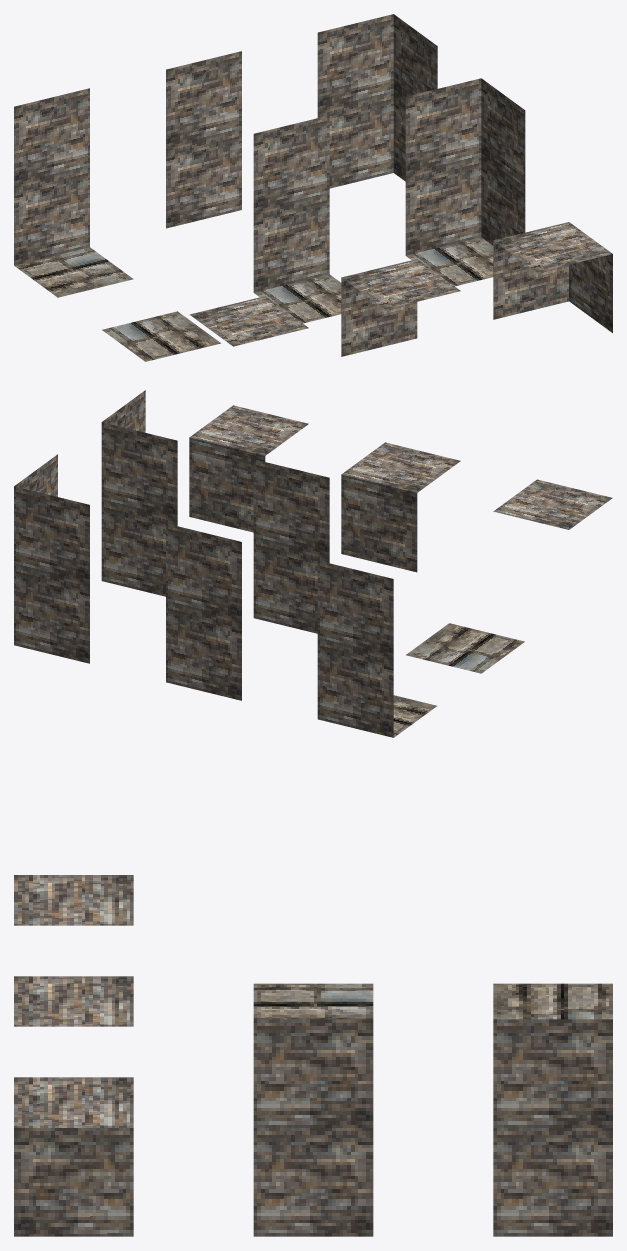
The model's file is dungeon_tiles.glb.
The picture shows the model from 3 angles, top to bottom: view 1: azimuth 30°, elevation 25°; view 2: azimuth 150°, elevation 25°; view 3: azimuth 270°, elevation 25°; orthographic projection. The views are drawn at different scales.
Parts seen in each view (by area): view 1: wall-floor-corner-col, wall-floor-inverted-col, wall-corner-col, wall-floor-col, wall-col, wall-roof-corner-col, wall-roof-col, roof-col, floor-col; view 2: wall-floor-inverted-col, wall-corner-col, wall-floor-corner-col, wall-col, wall-floor-col, wall-roof-col, wall-roof-corner-col, roof-col, floor-col; view 3: wall-floor-corner-col, wall-corner-col, wall-roof-corner-col, wall-roof-col, roof-col, floor-col, wall-floor-inverted-col.
Part boxes in pixels (x1=…): wall-floor-corner-col: x1=405, y1=78, x2=525, y2=286; wall-floor-inverted-col: x1=14, y1=88, x2=133, y2=297; wall-corner-col: x1=317, y1=14, x2=437, y2=188; wall-floor-col: x1=253, y1=115, x2=341, y2=323; wall-col: x1=166, y1=51, x2=241, y2=228; wall-roof-corner-col: x1=493, y1=222, x2=612, y2=332; wall-roof-col: x1=341, y1=259, x2=460, y2=356; roof-col: x1=189, y1=296, x2=308, y2=346; floor-col: x1=102, y1=311, x2=220, y2=361; wall-floor-inverted-col: x1=317, y1=560, x2=436, y2=737; wall-corner-col: x1=14, y1=454, x2=89, y2=663; wall-floor-corner-col: x1=101, y1=390, x2=177, y2=596; wall-col: x1=166, y1=523, x2=241, y2=700; wall-floor-col: x1=253, y1=459, x2=329, y2=633; wall-roof-col: x1=341, y1=442, x2=460, y2=572; wall-roof-corner-col: x1=189, y1=405, x2=308, y2=532; roof-col: x1=493, y1=479, x2=612, y2=529; floor-col: x1=406, y1=623, x2=524, y2=673; wall-floor-corner-col: x1=253, y1=1019, x2=373, y2=1236; wall-corner-col: x1=493, y1=1019, x2=612, y2=1236; wall-roof-corner-col: x1=14, y1=1077, x2=133, y2=1236; wall-roof-col: x1=14, y1=976, x2=133, y2=1026; roof-col: x1=14, y1=875, x2=133, y2=925; floor-col: x1=253, y1=983, x2=373, y2=1019; wall-floor-inverted-col: x1=493, y1=983, x2=612, y2=1019.
Size of the model in its own units: 5 by 2 by 5.
Materials: 6 (6 with a texture image).
